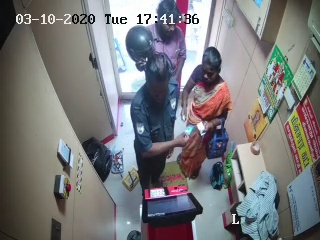helmet: (124, 24, 157, 65)
